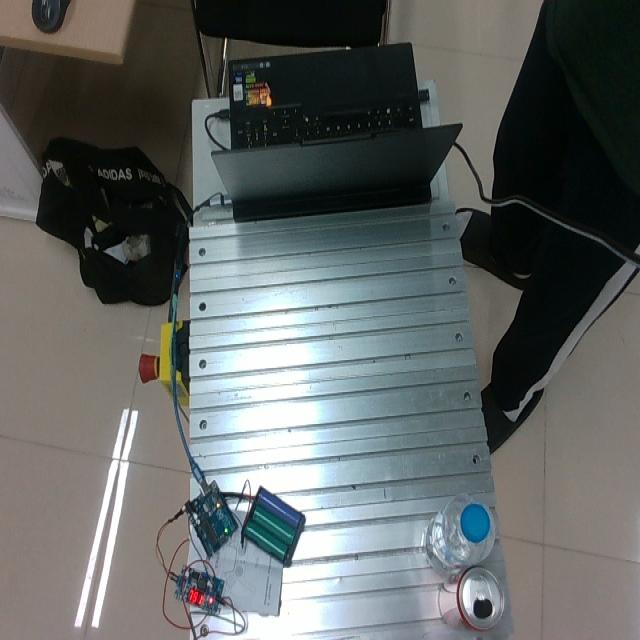coca: (453, 566, 505, 630)
lavie: (423, 492, 495, 576)
